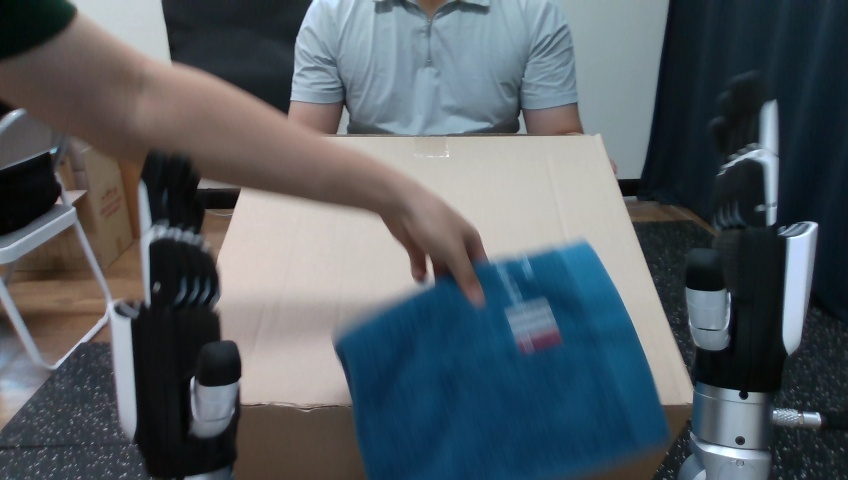left robot hand: (0, 0, 485, 304), (678, 71, 824, 479), (131, 152, 240, 478), (379, 180, 485, 306)
